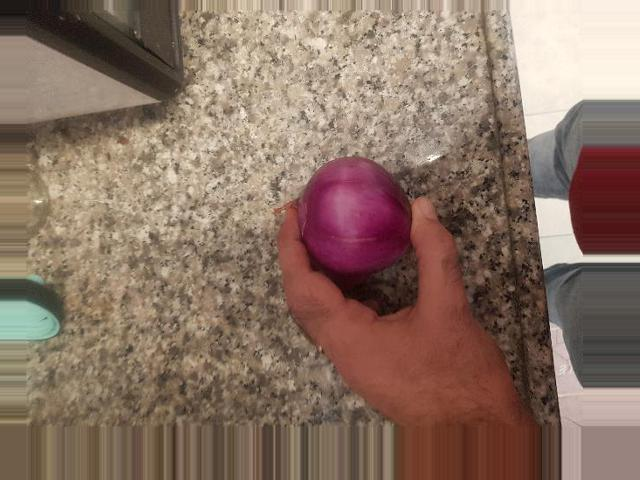onion: (287, 157, 412, 267)
